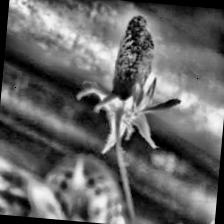Gray Mold: (72, 10, 189, 160)
